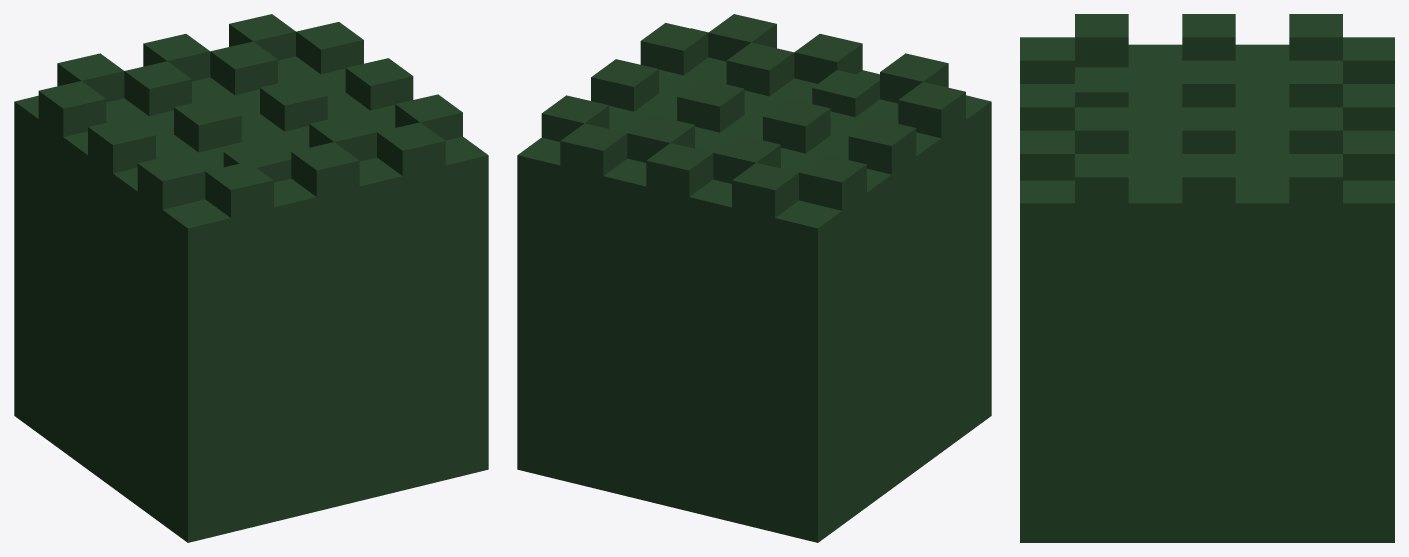
Rendered from GrassBlock.fbx.
The picture shows the model from 3 angles, left to right: view 1: azimuth 30°, elevation 25°; view 2: azimuth 150°, elevation 25°; view 3: azimuth 270°, elevation 25°; orthographic projection. The views are drawn at different scales.
Visible parts, largest first — view 1: Cube; view 2: Cube; view 3: Cube.
Part boxes in pixels (x1=…): Cube: x1=14, y1=14, x2=488, y2=542; Cube: x1=517, y1=14, x2=991, y2=542; Cube: x1=1020, y1=14, x2=1394, y2=542.
Size of the model in its own units: 1 by 1.09 by 1.
